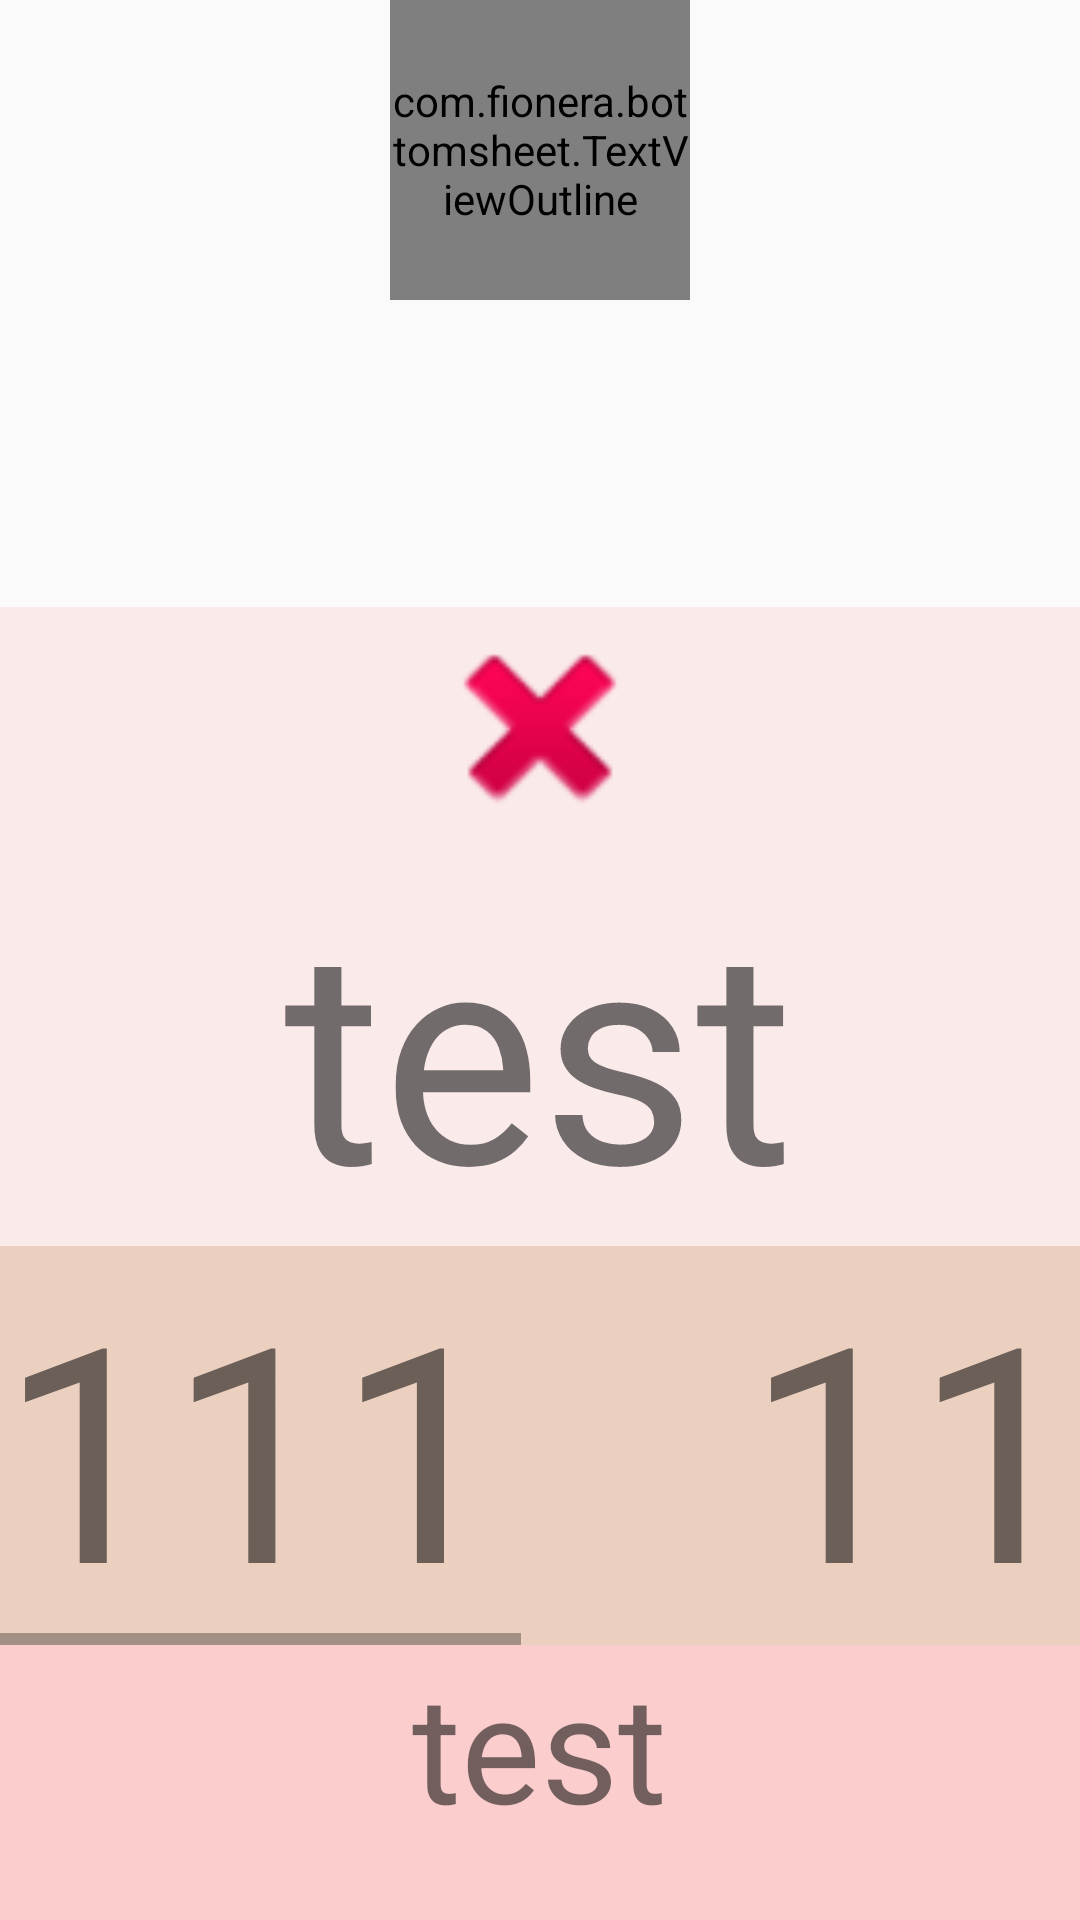

Point at icon controls on the screen. Image size 1080×1920, points as [x,y].
delete: [540,728]
